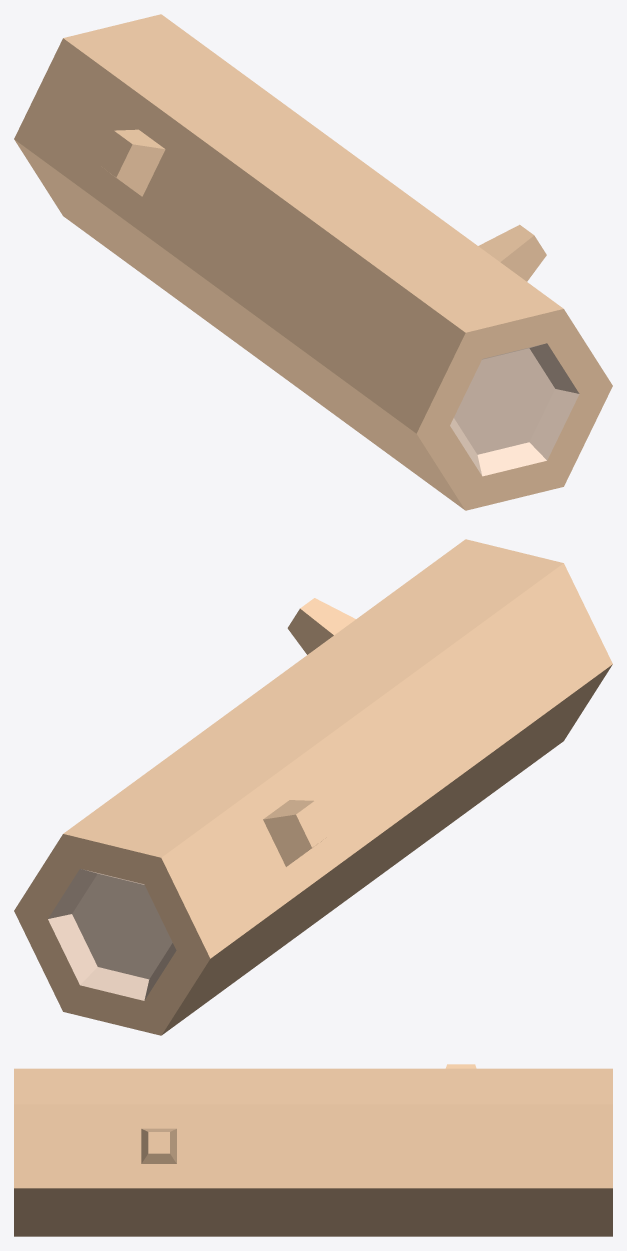
The model's file is log_small.glb.
The picture shows the model from 3 angles, top to bottom: view 1: azimuth 30°, elevation 25°; view 2: azimuth 150°, elevation 25°; view 3: azimuth 270°, elevation 25°; orthographic projection. The views are drawn at different scales.
Visible parts, largest first — view 1: log_small; view 2: log_small; view 3: log_small.
Boxes of the visible parts, x1,y1,x2,y2 form: log_small: [14, 14, 612, 510]; log_small: [14, 539, 612, 1035]; log_small: [14, 1064, 612, 1236].
Size of the model in its own units: 0.234 by 0.1732 by 0.71.
